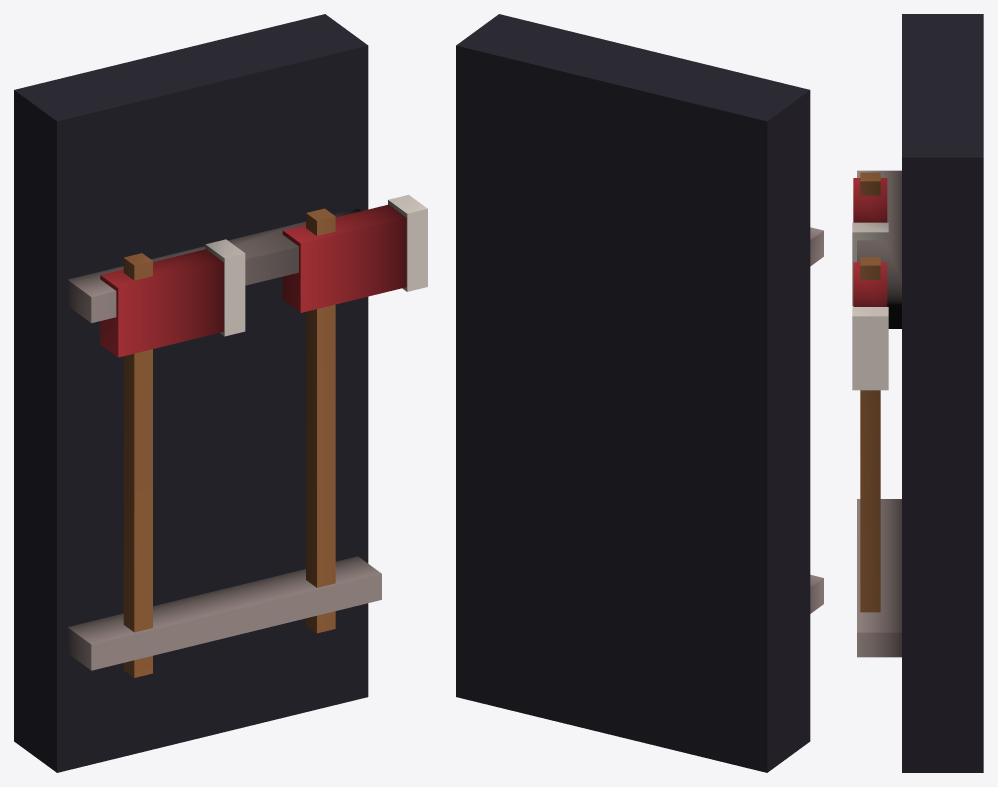
The model's file is prop.axe-rack.lod1.glb.
3 renders of one model, left to right at view 1: azimuth 30°, elevation 25°; view 2: azimuth 150°, elevation 25°; view 3: azimuth 270°, elevation 25°, orthographic. The views are drawn at different scales.
Visible parts, largest first — view 1: body; view 2: body; view 3: body.
Boxes of the visible parts, left/top/right/bottom form: body: left=14, top=14, right=427, bottom=772; body: left=456, top=14, right=823, bottom=772; body: left=852, top=14, right=983, bottom=772.
Bounding box in the file's own units: 0.83 × 1.5 × 0.29.
